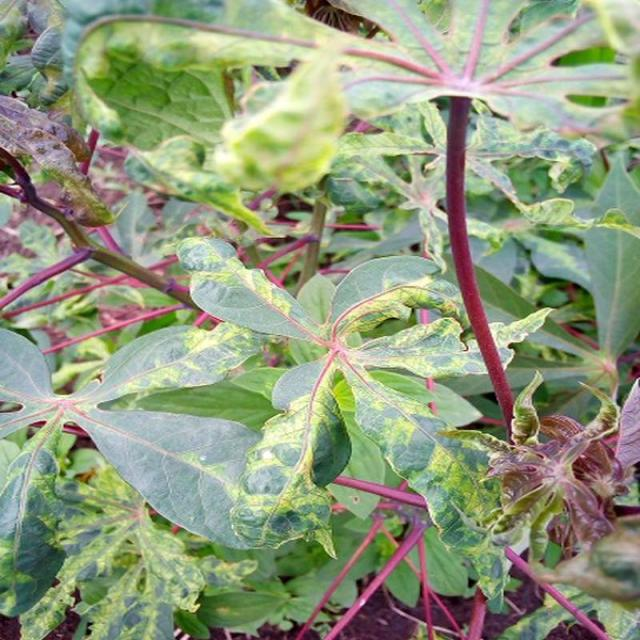cassava leaf: (1, 1, 638, 637), (174, 234, 534, 611)
